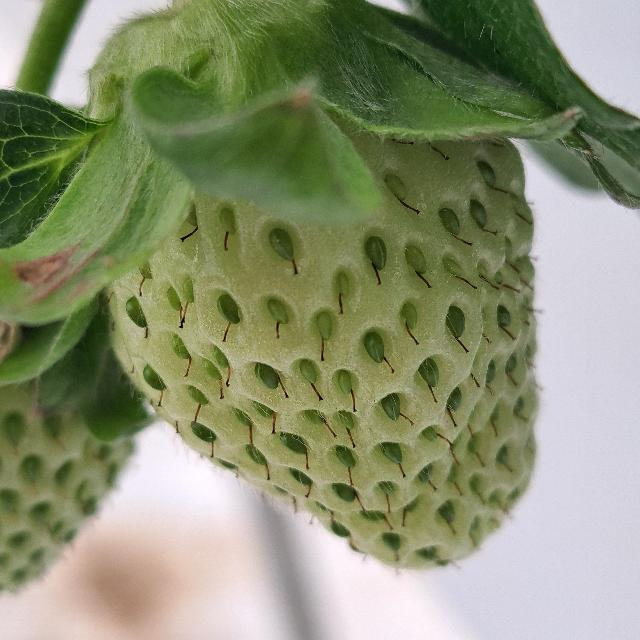Health_25: (105, 108, 539, 570)
